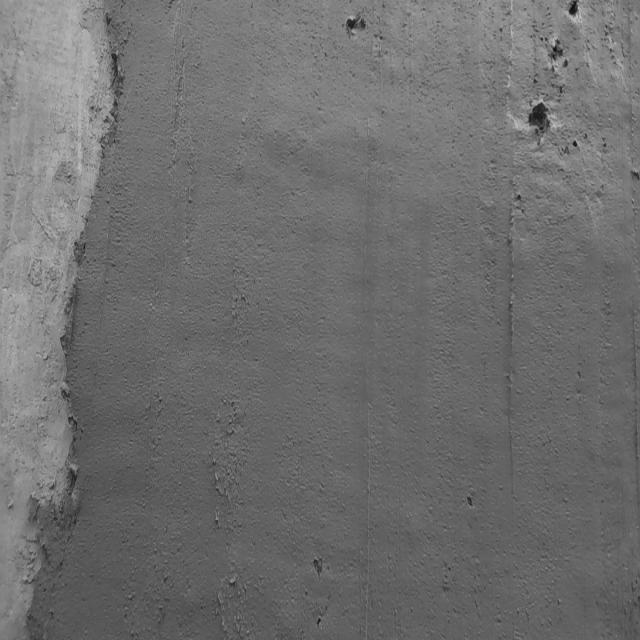trowels marks: (498, 3, 520, 497), (361, 373, 373, 640)
